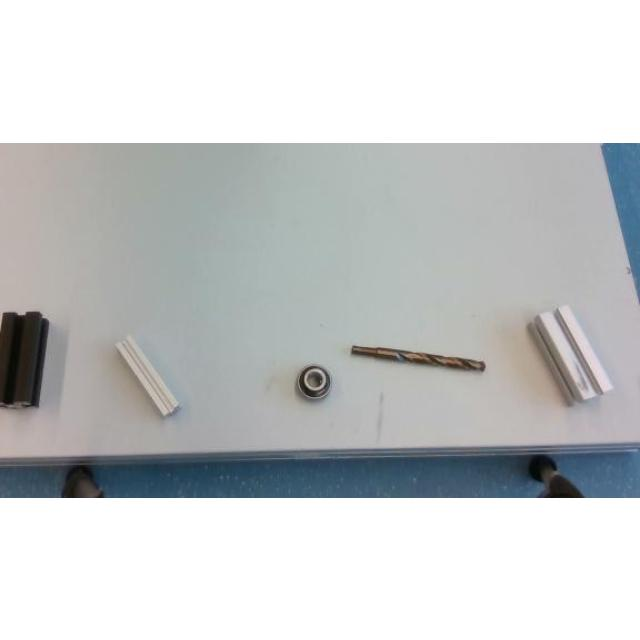Bearing2: (295, 364, 331, 398)
Drill: (351, 344, 485, 370)
F20_20_G: (114, 335, 178, 415)
S40_40_B: (0, 311, 48, 407)
S40_40_G: (529, 305, 611, 401)
